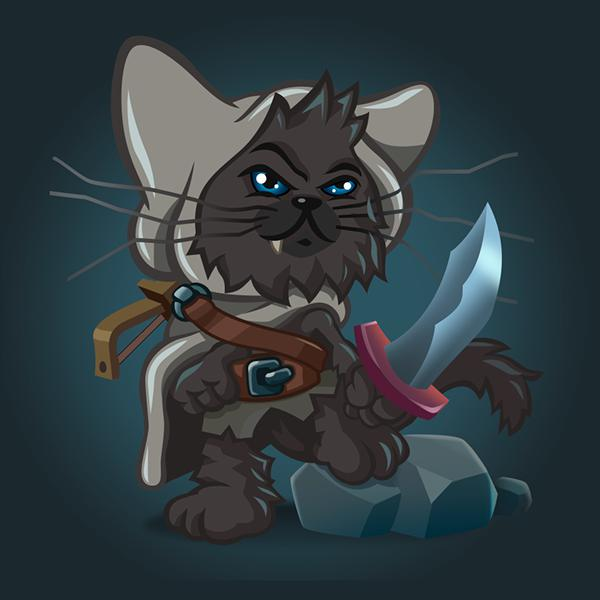cat: (108, 78, 424, 496)
